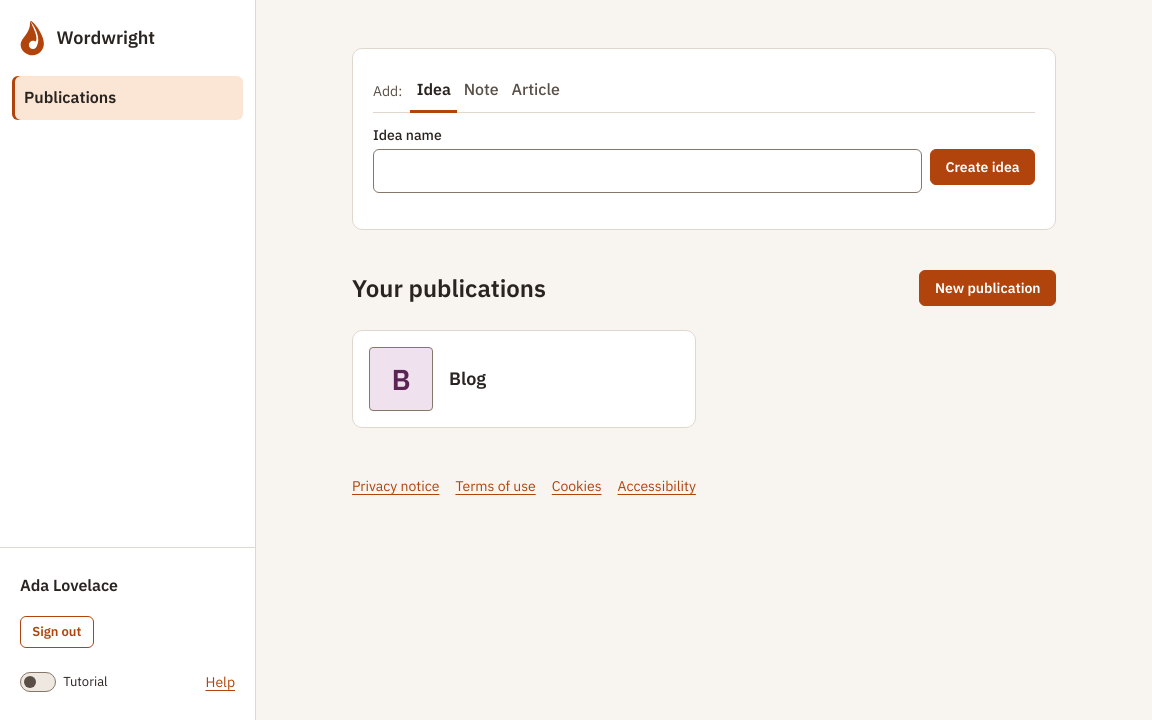
Test: Home: Quick add (#192) › says what went wrong when adding fails, and keeps what was typed
This screenshot has width=1152, height=720.
Click the tab with aria-label "Add a note" at (481, 91), box [457,69,505,113]
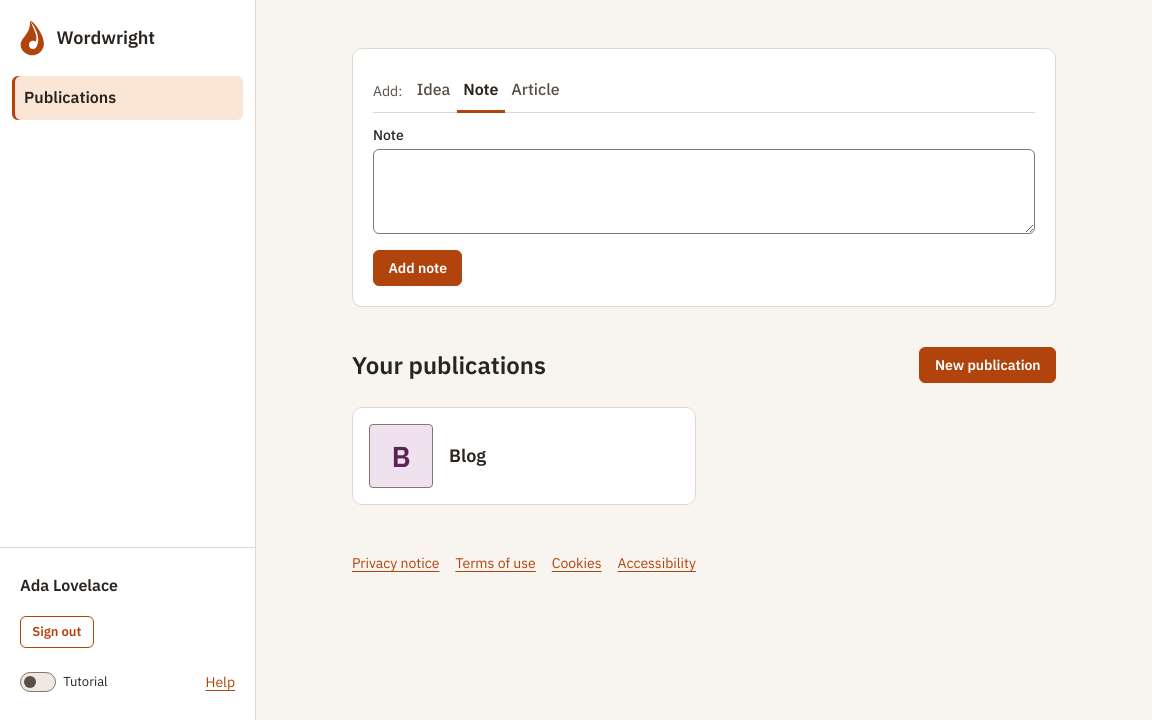
Type "Words" into the text box labelled "Note" at (704, 192), box [373,149,1035,234]
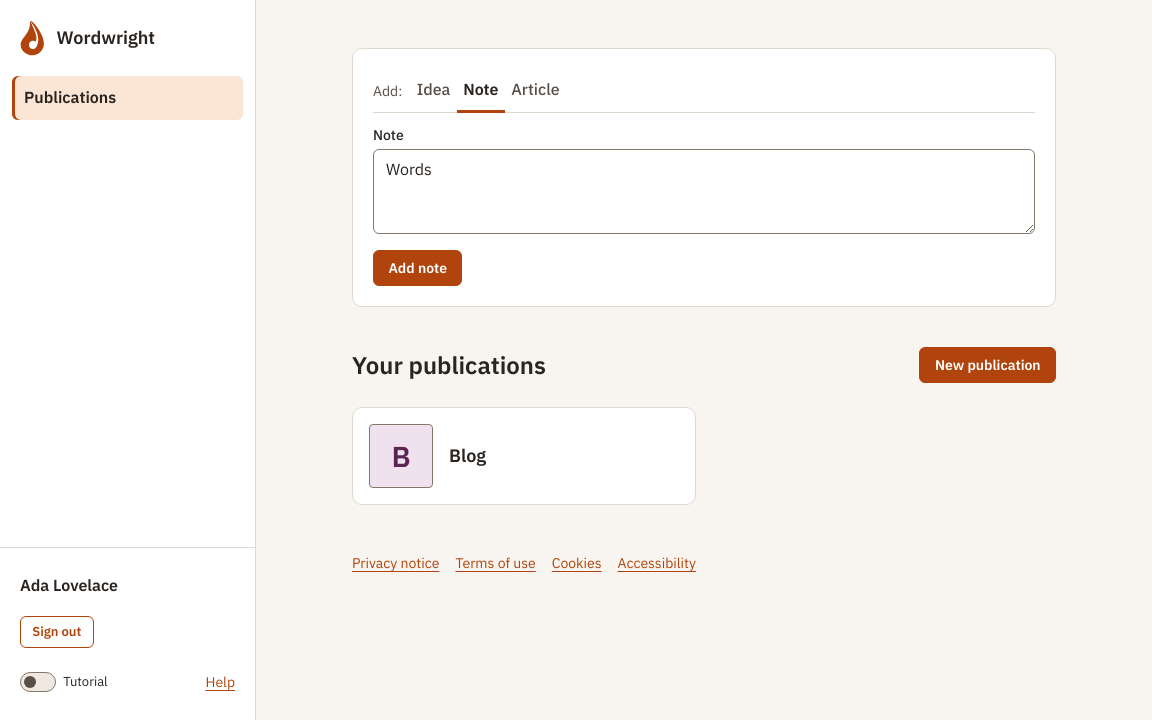
Click the button "Add note" at (418, 268), box [373,250,462,286]
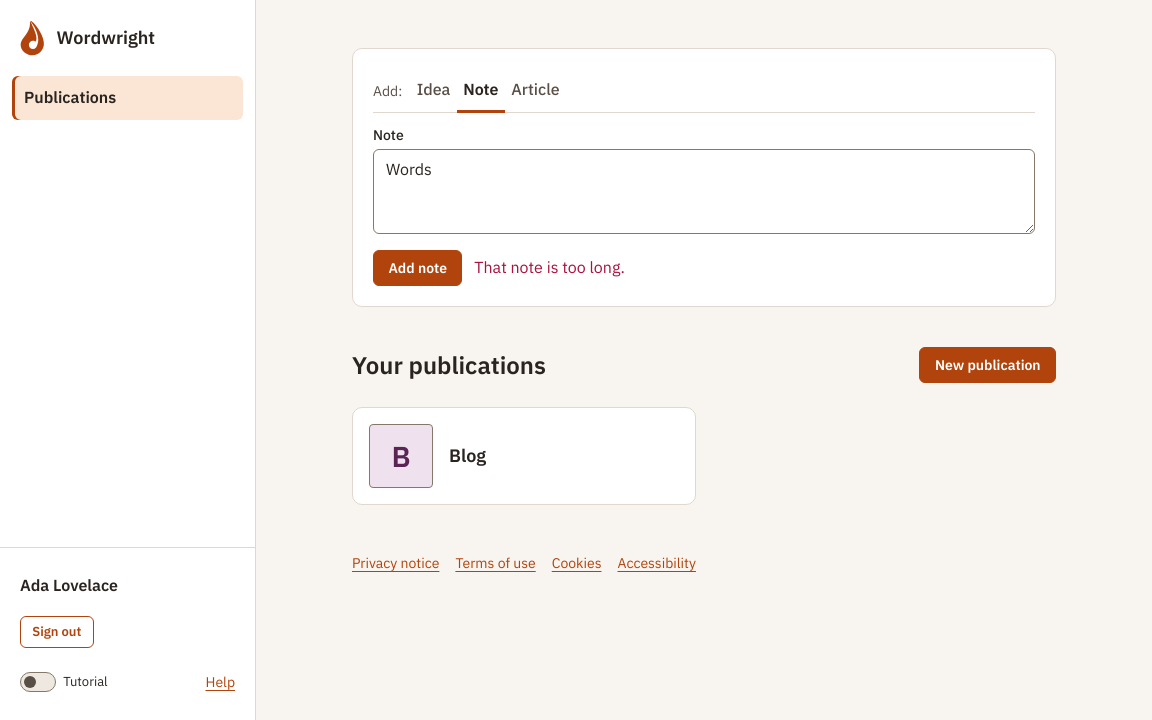
Expected: the message reads "That note is too long.", [474,257,625,277]
